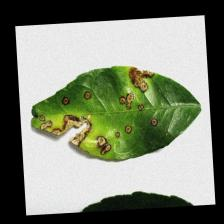canker: (26, 66, 167, 154)
